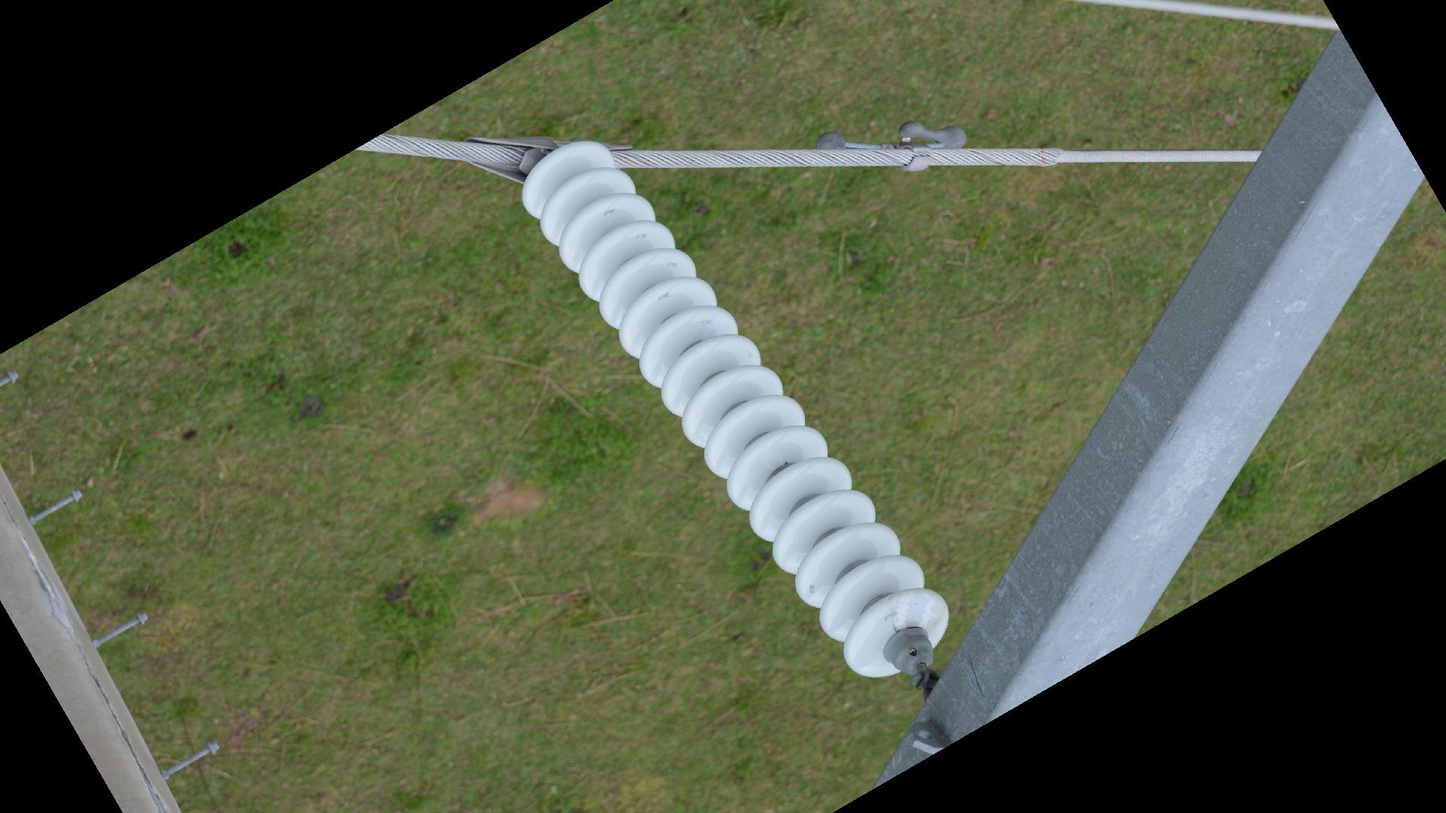insulator: (513, 135, 952, 684)
insulator_flashover: (900, 591, 929, 630)
